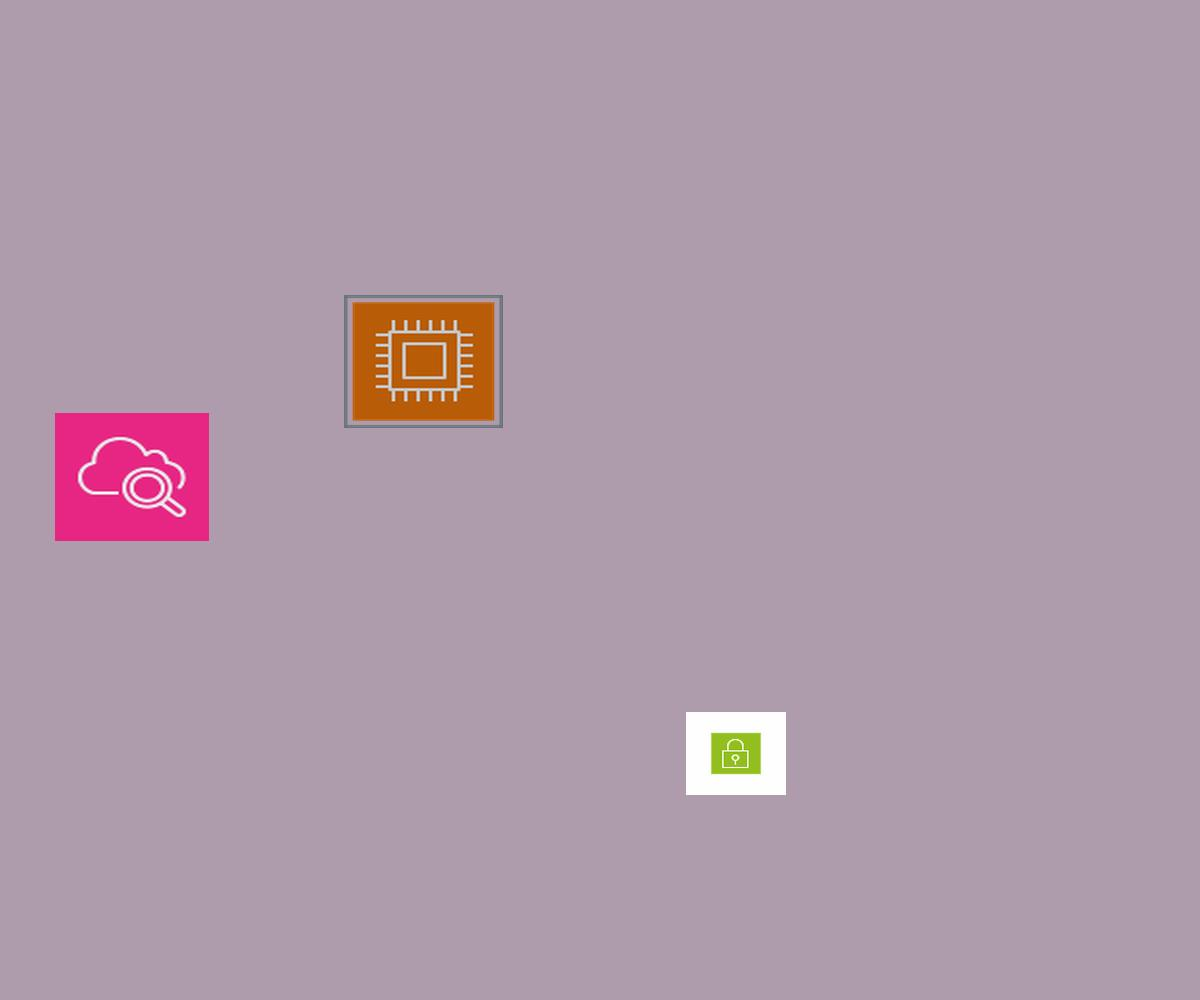AWS-Category_Compute: (344, 295, 503, 428)
AWS-CloudWatch: (55, 413, 209, 541)
AWS-Public-subnet: (686, 712, 786, 795)
